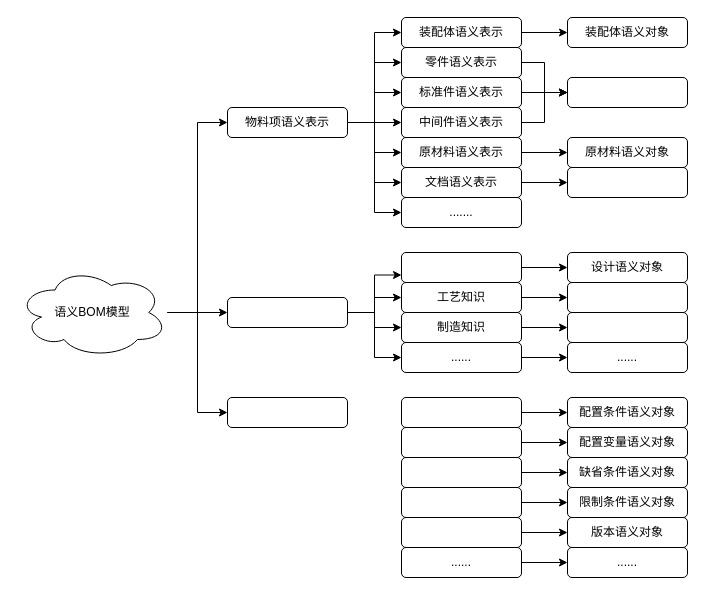
The diagram is 705 pixels wide and 595 high, and some of its shapes have lost their labels. Each missing label, with the centre of its shape:
"BOM配置语义表示" goes at [287,412].
"制造语义对象" goes at [627,327].
"工艺语义对象" goes at [627,297].
"版本信息" goes at [461,532].
"物料项关系语义表示" goes at [287,312].
"缺省条件信息" goes at [461,472].
"设计知识" goes at [461,267].
"资源语义表示" goes at [627,182].
"配置变量信息" goes at [461,442].
"配置条件信息" goes at [461,412].
"限制条件信息" goes at [461,502].
"零件语义对象" goes at [627,92].
